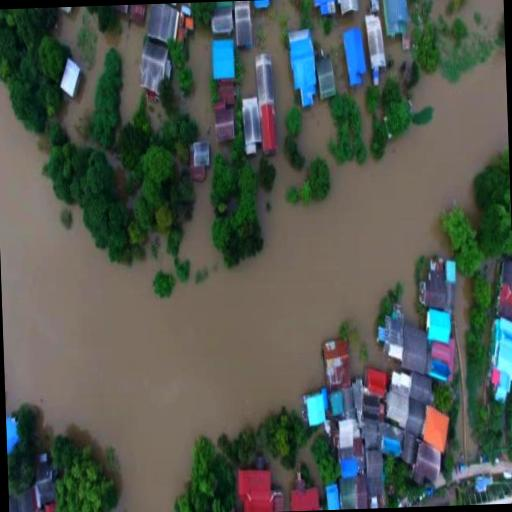flood: (0, 0, 508, 512), (54, 6, 145, 145), (312, 0, 372, 146), (180, 29, 228, 154), (452, 0, 504, 44), (382, 38, 411, 81)
house: (418, 252, 461, 390), (247, 47, 286, 158), (340, 18, 380, 88), (290, 26, 320, 108), (418, 400, 450, 466), (234, 461, 275, 512), (139, 2, 180, 50), (320, 334, 350, 386), (362, 365, 390, 418), (210, 38, 238, 84), (287, 481, 320, 511), (124, 4, 149, 24), (335, 0, 362, 15), (249, 0, 272, 10)
